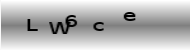6: (65, 14, 77, 28)
L: (26, 17, 39, 32)
W: (48, 21, 70, 35)
c: (92, 21, 105, 32)
e: (123, 11, 137, 21)
